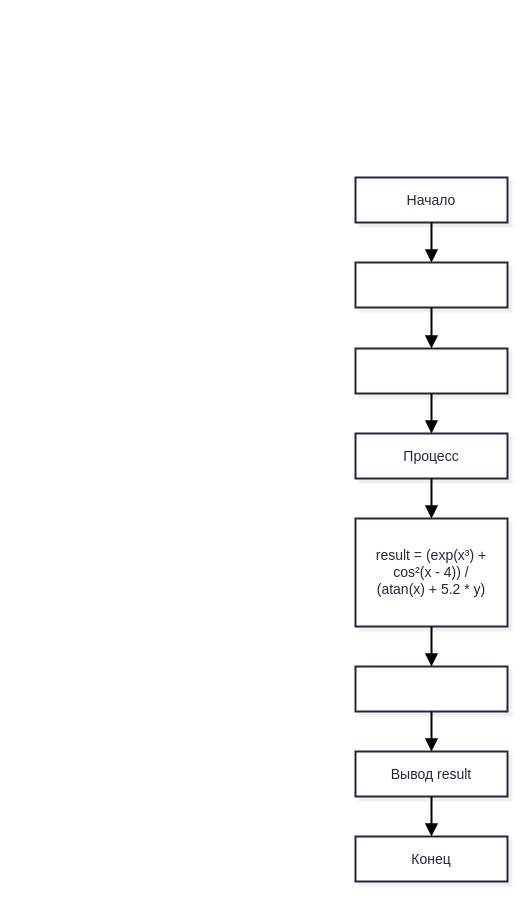
This 529x903 diagram has some shape labels left out. Each missing label, with the centre of its shape:
Ввод: point (433, 286)
Ввод x, y: point (433, 372)
Вывод: point (433, 690)
